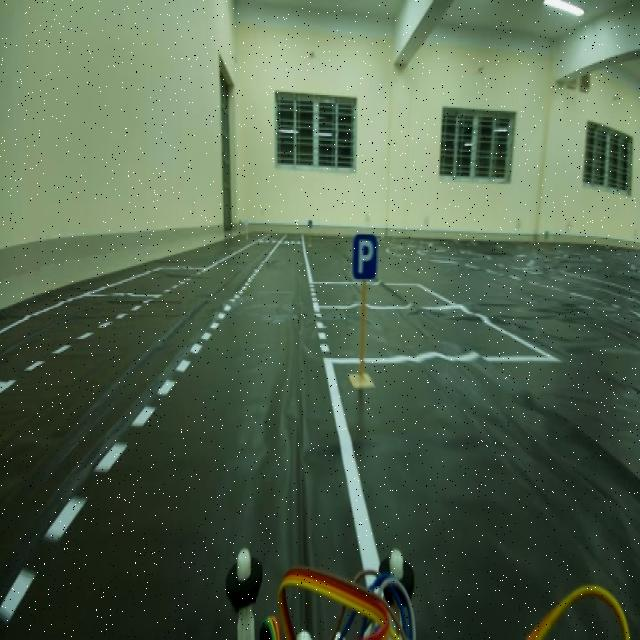parking: (349, 222, 383, 288)
